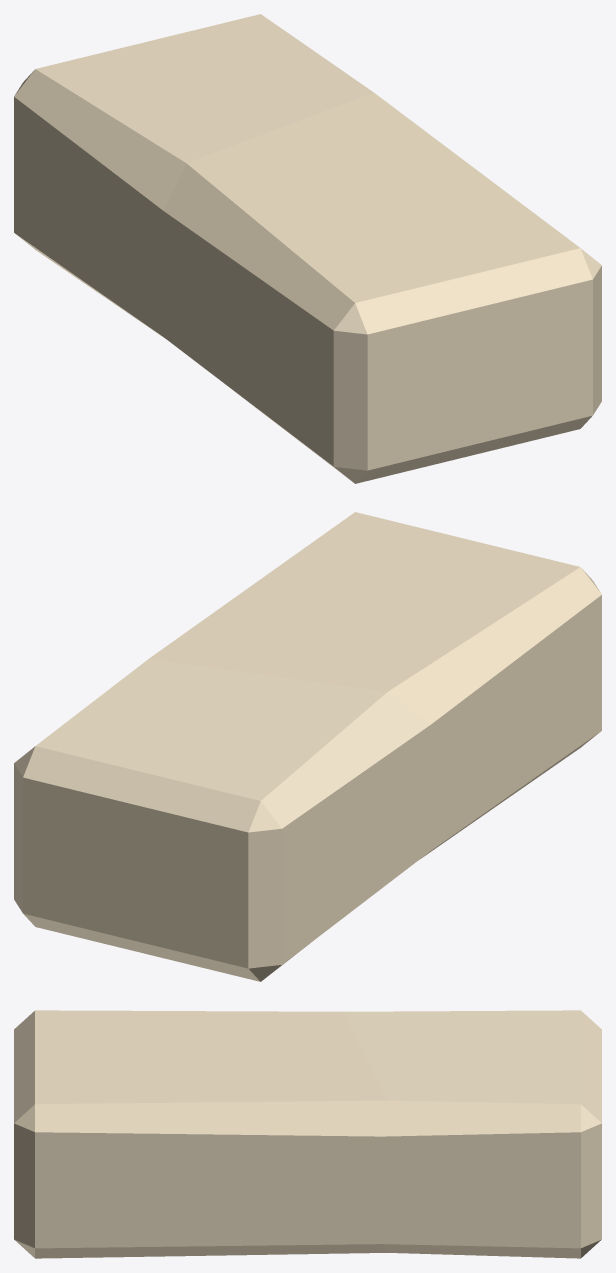
Rendered from brick_b_34.gltf.
The picture shows the model from 3 angles, top to bottom: view 1: azimuth 30°, elevation 25°; view 2: azimuth 150°, elevation 25°; view 3: azimuth 270°, elevation 25°; orthographic projection. The views are drawn at different scales.
Visible parts, largest first — view 1: brick_b002; view 2: brick_b002; view 3: brick_b002.
Boxes of the visible parts, x1,y1,x2,y2 form: brick_b002: (14, 14, 601, 483); brick_b002: (14, 512, 601, 981); brick_b002: (14, 1010, 601, 1258).
Bounding box in the file's own units: 0.1595 × 0.1053 × 0.355.
1 material, 1 textured.
